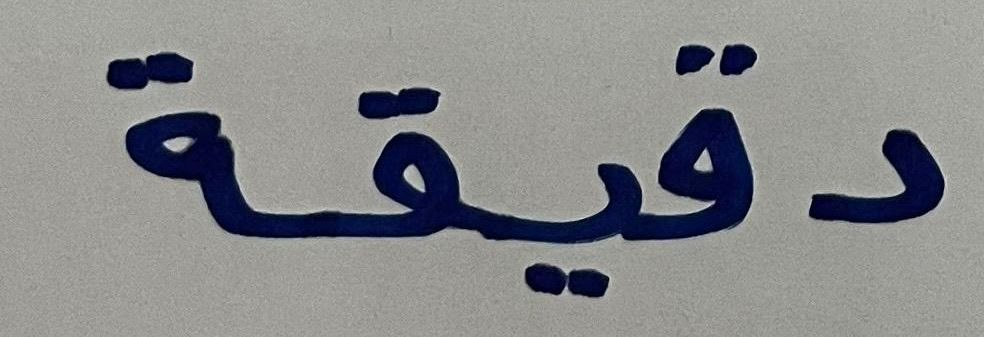dal: (799, 91, 966, 280)
qaf: (291, 64, 482, 297), (659, 32, 788, 297)
teh_marbota: (66, 24, 279, 272)
yeh: (501, 70, 651, 322)
